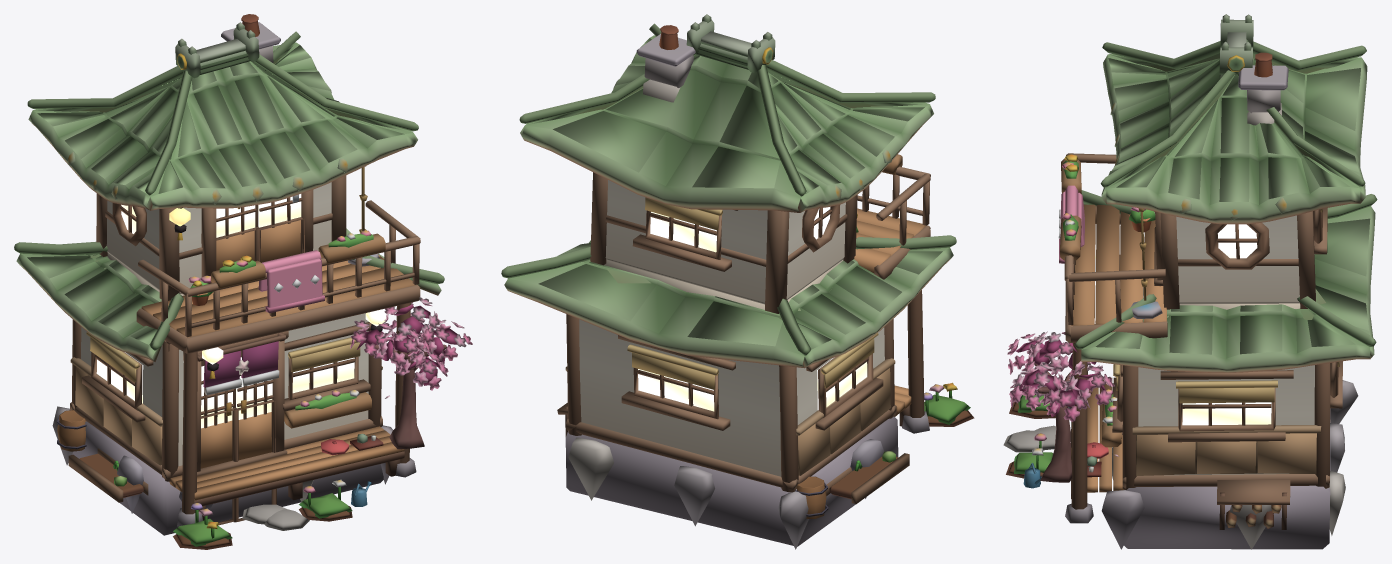
Rendered from home-3-v4.glb.
The picture shows the model from 3 angles, left to right: view 1: azimuth 30°, elevation 25°; view 2: azimuth 150°, elevation 25°; view 3: azimuth 270°, elevation 25°; orthographic projection. The views are drawn at different scales.
Parts seen in each view (by area): view 1: home-3-v4, window_glow; view 2: home-3-v4, window_glow; view 3: home-3-v4, window_glow.
Part boxes in pixels (left/top/right/bottom): home-3-v4: left=14, top=14, right=472, bottom=549; window_glow: left=96, top=194, right=386, bottom=428; home-3-v4: left=501, top=14, right=974, bottom=549; window_glow: left=638, top=207, right=867, bottom=411; home-3-v4: left=1003, top=14, right=1377, bottom=549; window_glow: left=1095, top=224, right=1271, bottom=425.
Bounding box in the file's own units: 3.28 × 4.62 × 3.38.
